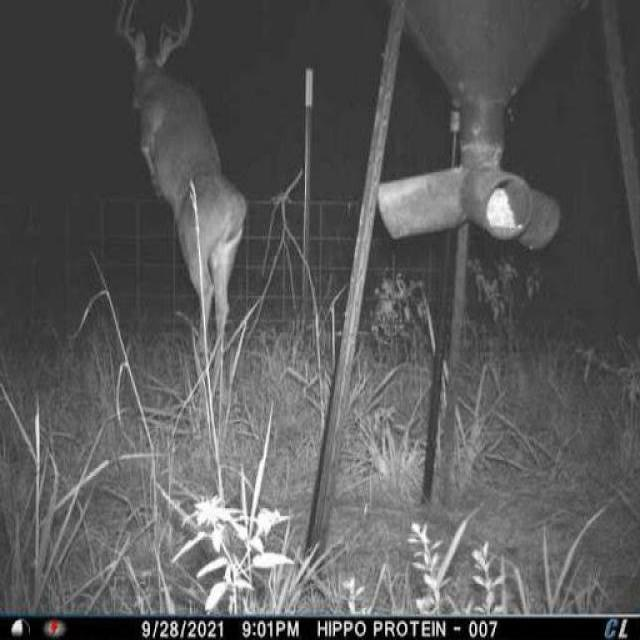deer: (110, 0, 255, 381)
